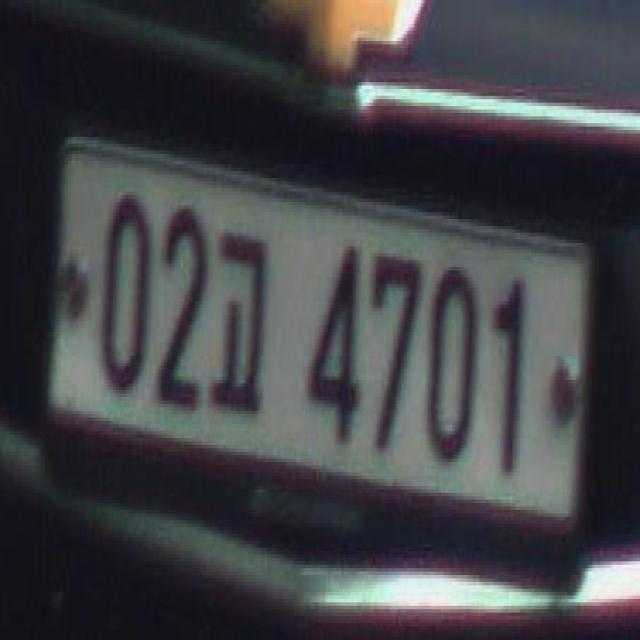illegal_plate: (50, 141, 596, 544)
